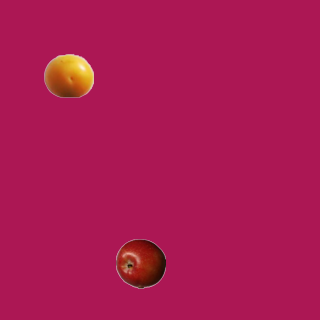Apple Braeburn: (115, 238, 165, 288)
Cherry Wax Yellow: (43, 50, 93, 100)
